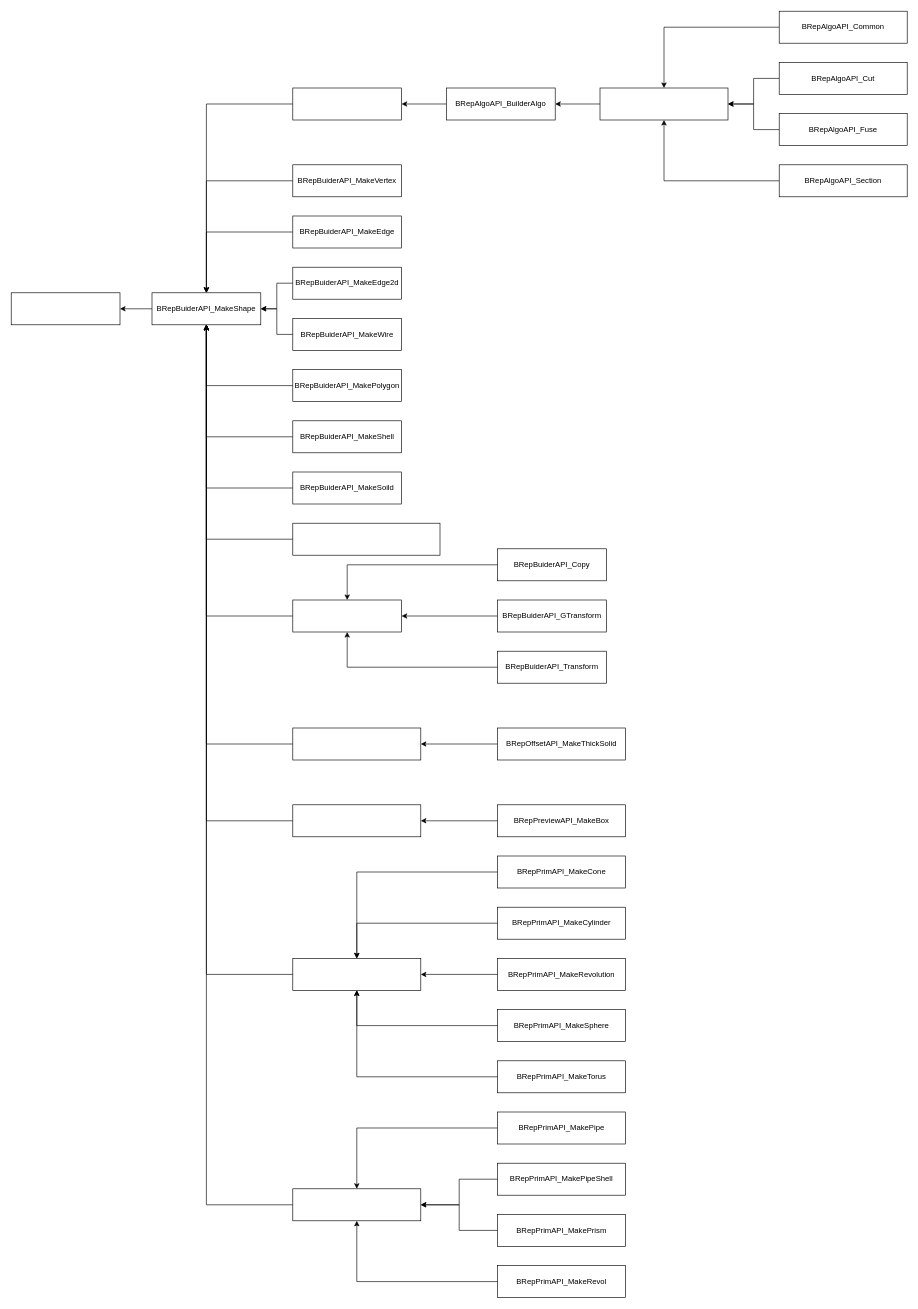
Some shapes in this 918 by 1309 pixel diagram are drawn without their labels. The shapes that lost their labels are listed below. From the top down, each one's box as (x1, y1, x2, y2) in pixels, then its label:
(292, 87, 402, 120): BRepAlgoAPI_Algo
(599, 87, 728, 120): BRepAlgoAPI_BooleanOperation
(11, 292, 120, 325): BRepBuiderAPI_Command
(292, 523, 440, 555): BRepBuiderAPI_MakeShapeOnMesh
(292, 599, 402, 632): BRepBuiderAPI_ModifyShape
(292, 727, 421, 760): BRepOffsetAPI_MakeOffsetShape
(292, 804, 421, 837): BRepPrimAPI_MakeBox
(292, 958, 421, 990): BRepPrimAPI_MakeOneAxis
(292, 1188, 421, 1221): BRepPrimAPI_MakeSweep
